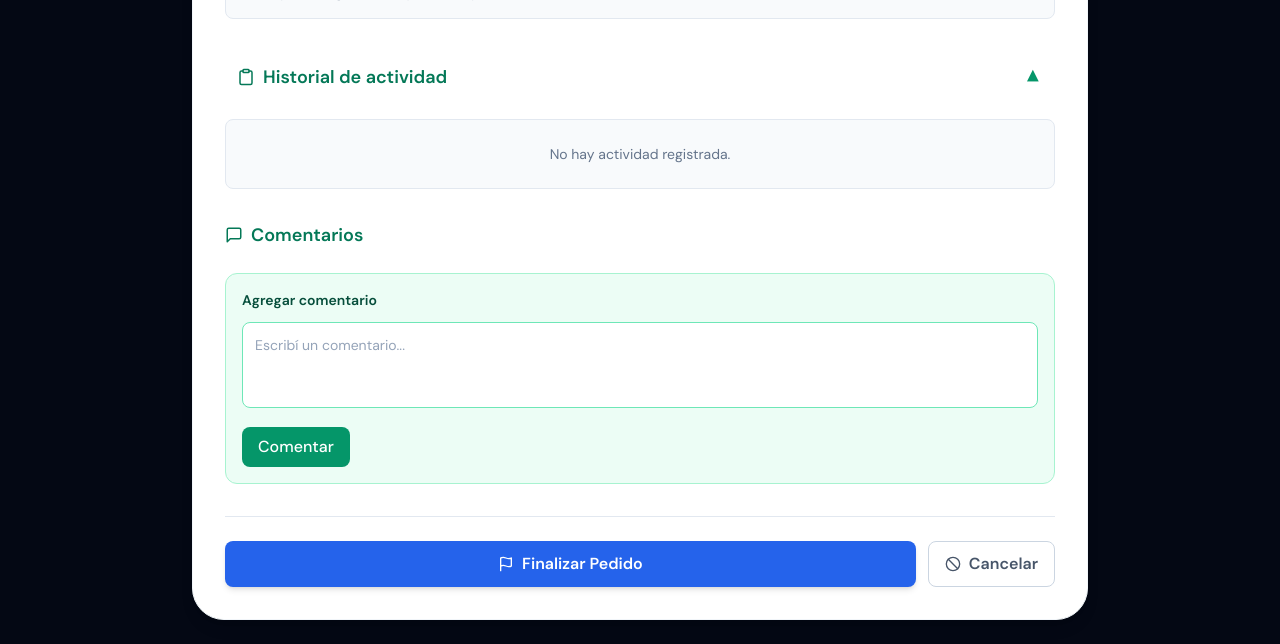
Test: PedidoDetalle — finalización con consumos[] › valida que el consumo no supere la cantidad pendiente
(page scrolled)
Click the button "Finalizar Pedido": (570, 564) [225,541,916,587]
(page scrolled)
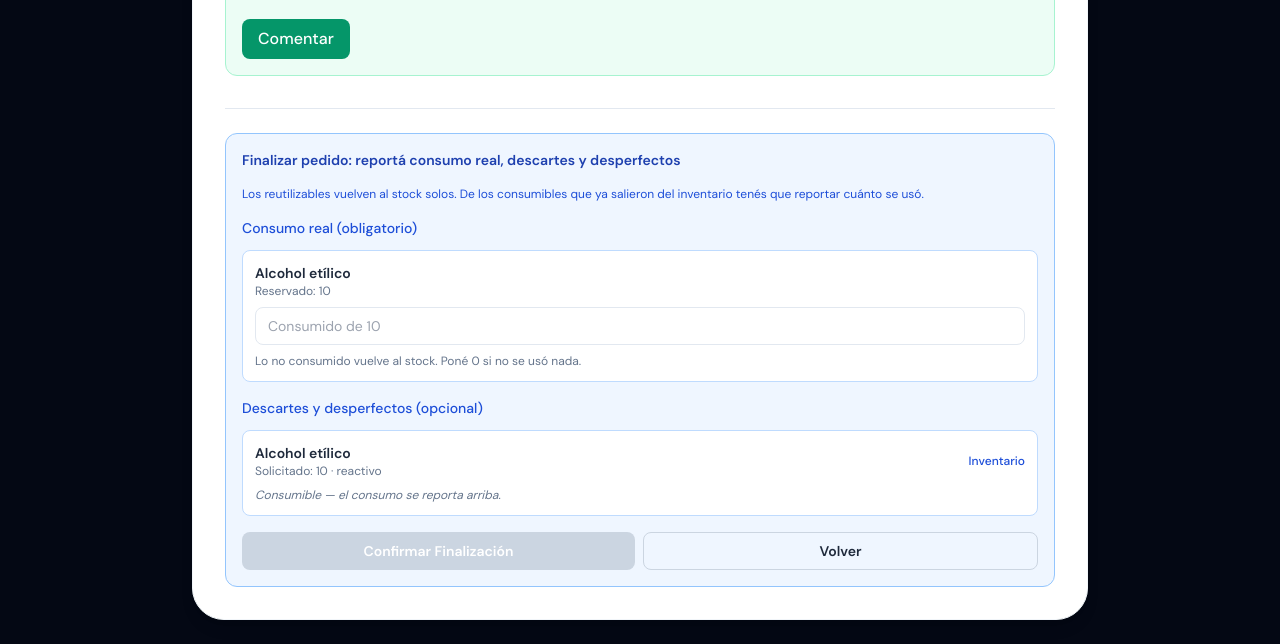
In the number field named "Cantidad consumida de Alcohol etílico": (640, 326) [255,307,1025,345], type "15"
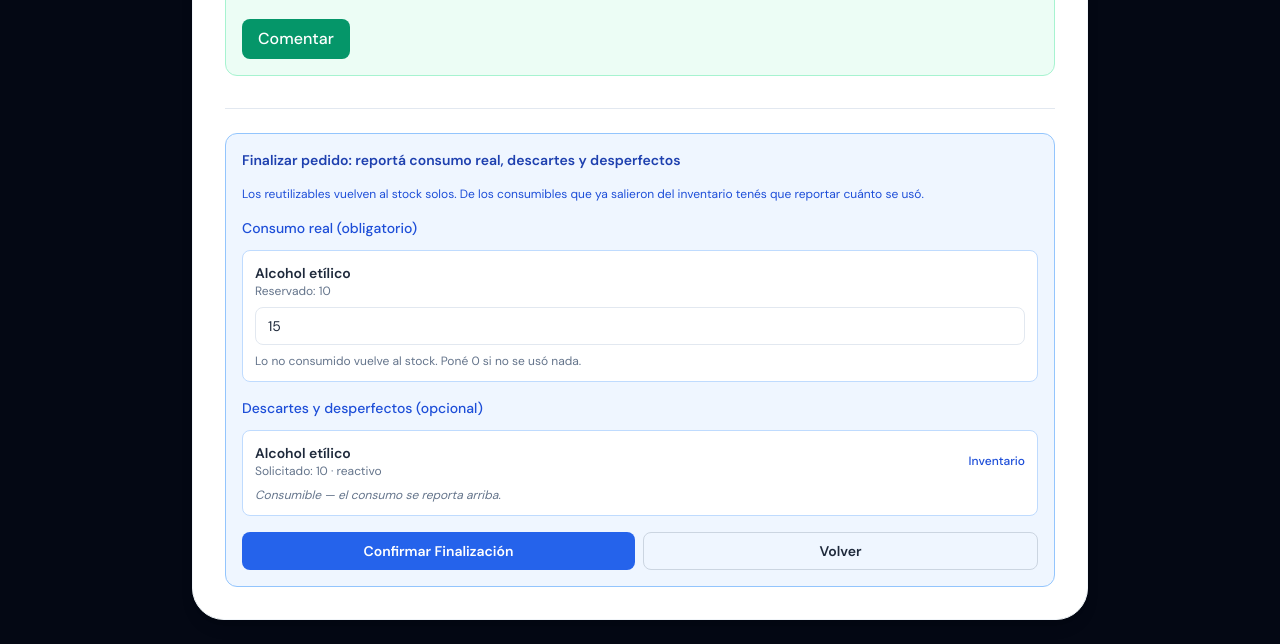
Click the button "Confirmar Finalización": (438, 551) [242,532,635,570]
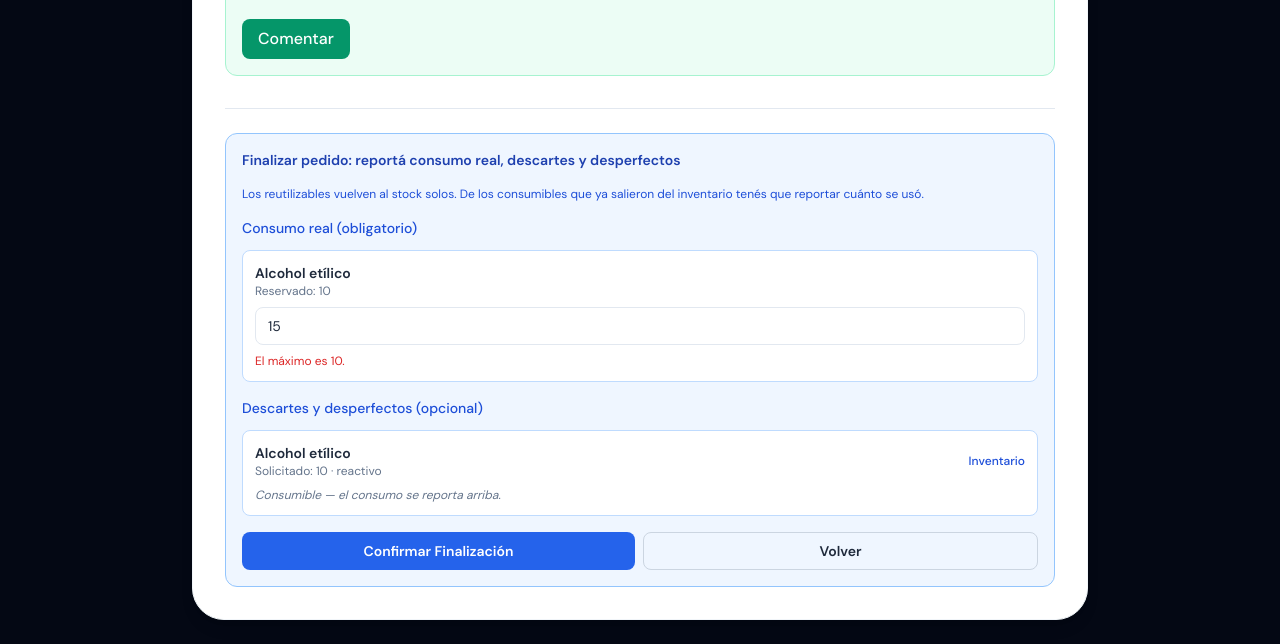
Now the text "El máximo es 10." is shown, box [255,353,345,369]
